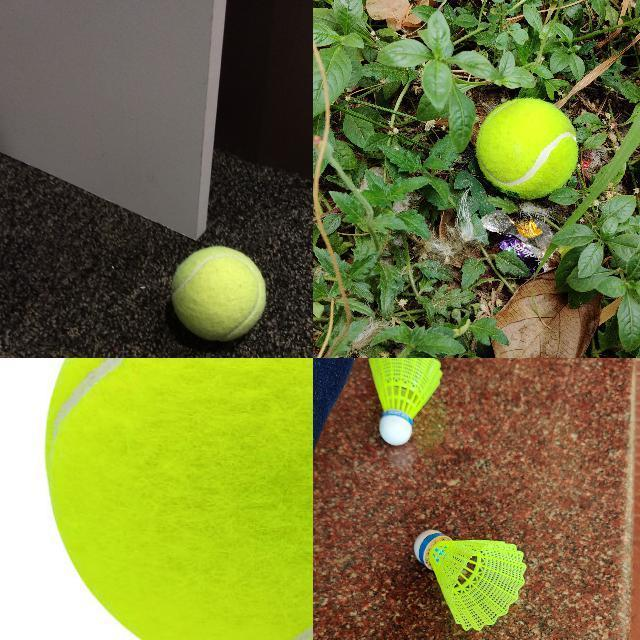tennis-ball: (44, 358, 312, 639), (475, 99, 577, 198), (170, 245, 266, 341)
